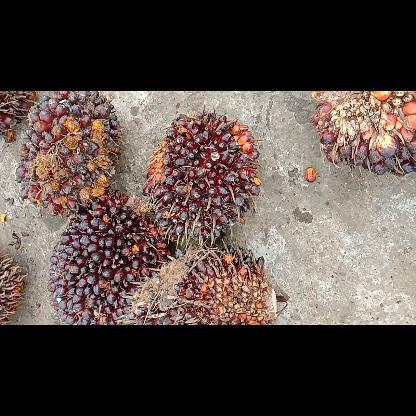Kurang masak: (141, 108, 262, 246), (46, 198, 176, 324), (12, 91, 124, 217), (121, 242, 281, 324)
